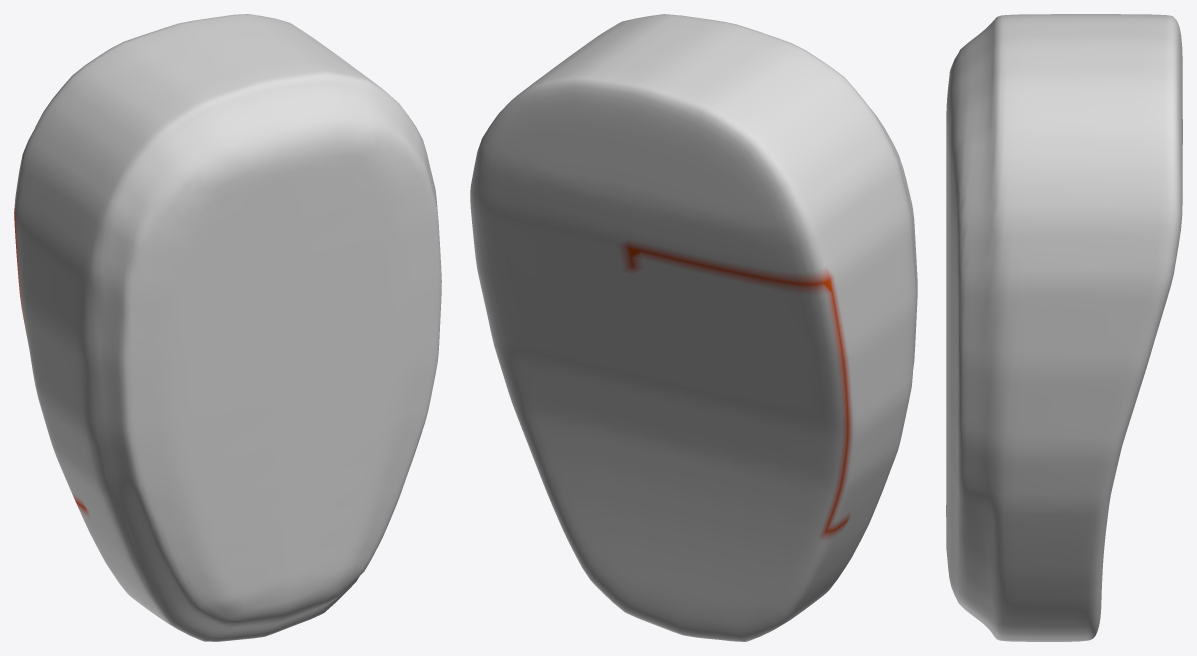
The model's file is w_latch_02.fbx.
3 views of the same model, side by side, from view 1: azimuth 30°, elevation 25°; view 2: azimuth 150°, elevation 25°; view 3: azimuth 270°, elevation 25° (orthographic). The views are drawn at different scales.
Visible parts, largest first — view 1: latch_02; view 2: latch_02; view 3: latch_02.
Part boxes in pixels (left/top/right/bottom): latch_02: left=14, top=14, right=441, bottom=641; latch_02: left=470, top=14, right=917, bottom=641; latch_02: left=946, top=14, right=1182, bottom=641.
Bounding box in the file's own units: 0.0976 × 0.1464 × 0.0542.
